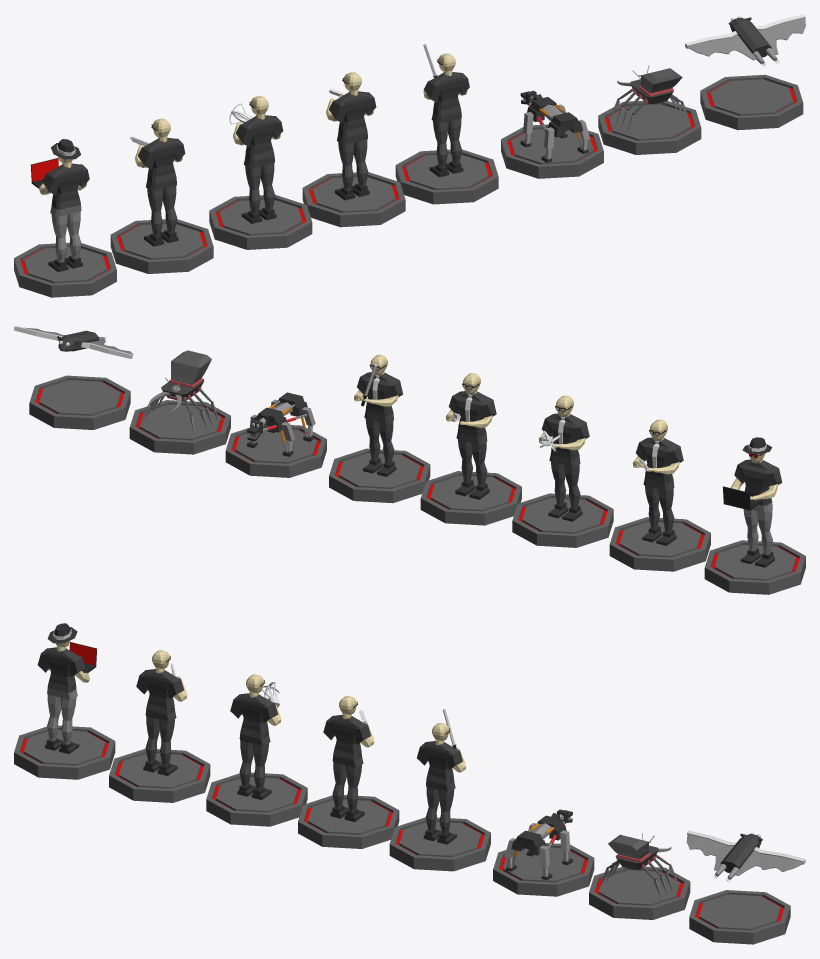
Rendered from Enemys29th.fbx.
3 views of the same model, one above another, from view 1: azimuth 30°, elevation 25°; view 2: azimuth 150°, elevation 25°; view 3: azimuth 330°, elevation 25° (orthographic).
Visible parts, largest first — view 1: Cylinder.018, Cylinder.013, Cylinder.017, Cylinder.008, Cylinder.010, Cylinder.015, Cylinder.011, Cylinder.012; view 2: Cylinder.018, Cylinder.013, Cylinder.017, Cylinder.010, Cylinder.015, Cylinder.011, Cylinder.008, Cylinder.012; view 3: Cylinder.018, Cylinder.013, Cylinder.008, Cylinder.017, Cylinder.010, Cylinder.015, Cylinder.011, Cylinder.012.
Part boxes in pixels (x1,y1,x2,y2): Cylinder.018: (14, 139, 116, 297); Cylinder.013: (209, 96, 312, 249); Cylinder.017: (110, 118, 213, 273); Cylinder.008: (685, 14, 805, 130); Cylinder.010: (302, 72, 405, 227); Cylinder.015: (395, 43, 498, 204); Cylinder.011: (598, 65, 701, 154); Cylinder.012: (501, 90, 603, 178); Cylinder.018: (704, 437, 805, 594); Cylinder.013: (512, 395, 613, 547); Cylinder.017: (609, 419, 710, 571); Cylinder.010: (420, 373, 521, 525); Cylinder.015: (329, 354, 430, 503); Cylinder.011: (129, 350, 230, 454); Cylinder.008: (14, 326, 133, 429); Cylinder.012: (225, 392, 326, 477); Cylinder.018: (14, 623, 115, 779); Cylinder.013: (206, 674, 307, 826); Cylinder.008: (686, 830, 805, 944); Cylinder.017: (109, 650, 210, 802); Cylinder.010: (298, 696, 399, 848); Cylinder.015: (389, 709, 490, 871); Cylinder.011: (589, 833, 690, 919); Cylinder.012: (493, 809, 594, 896).
Size of the model in its own units: 5.16 by 0.8433 by 0.6016.
